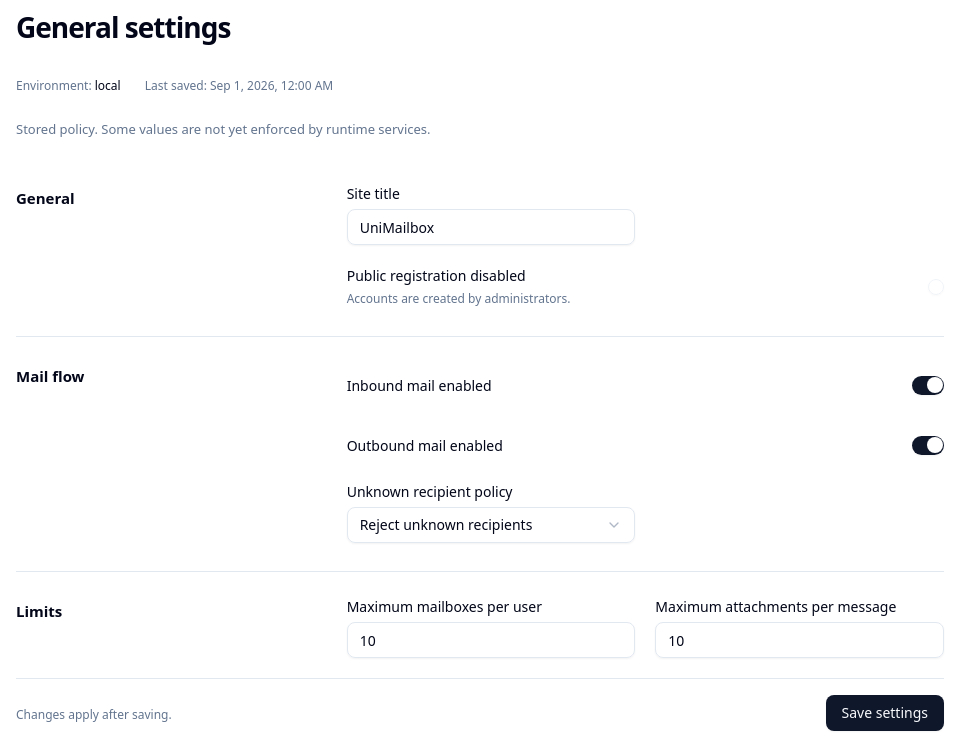
it: SettingsPage (CAP-069) › keeps form values visible and blocks duplicate saves while showing a busy button
Replace the text in the field labelled "Site title" with "Operations". click: (491, 227)
box: 347,209 -> 635,245
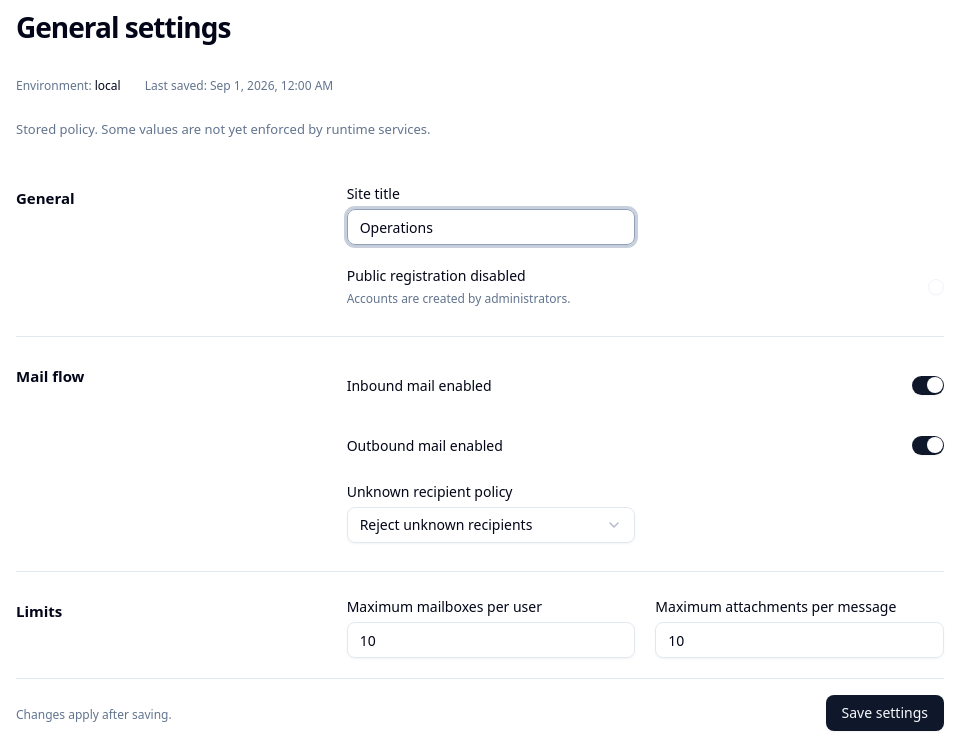
Click the button "Save settings". click: (885, 713)
box: 826,695 -> 944,731
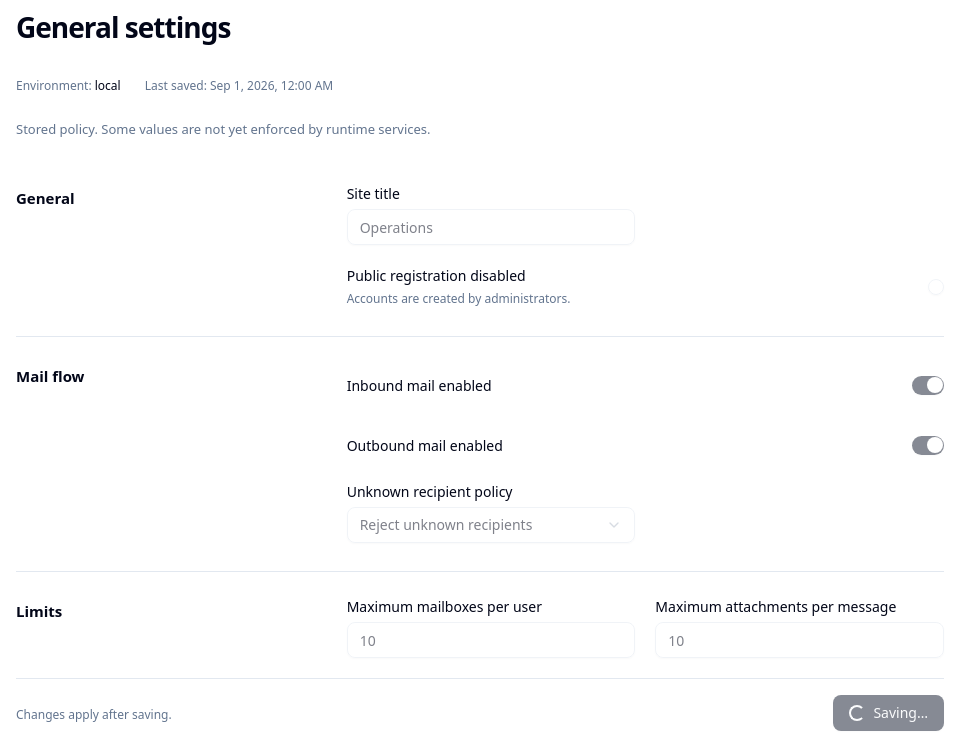
Expected: the button "Saving…" is disabled
Click the button "Saving…". click: (889, 713)
box: 833,695 -> 944,731
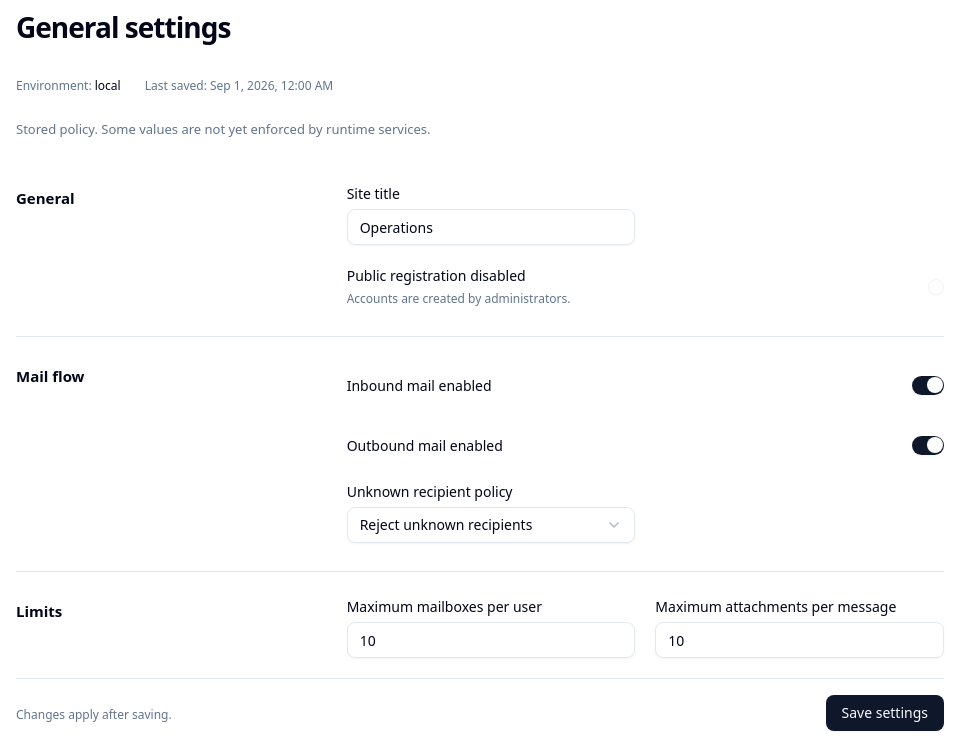
Expected: the button "Save settings" is enabled, 826,695 -> 944,731
